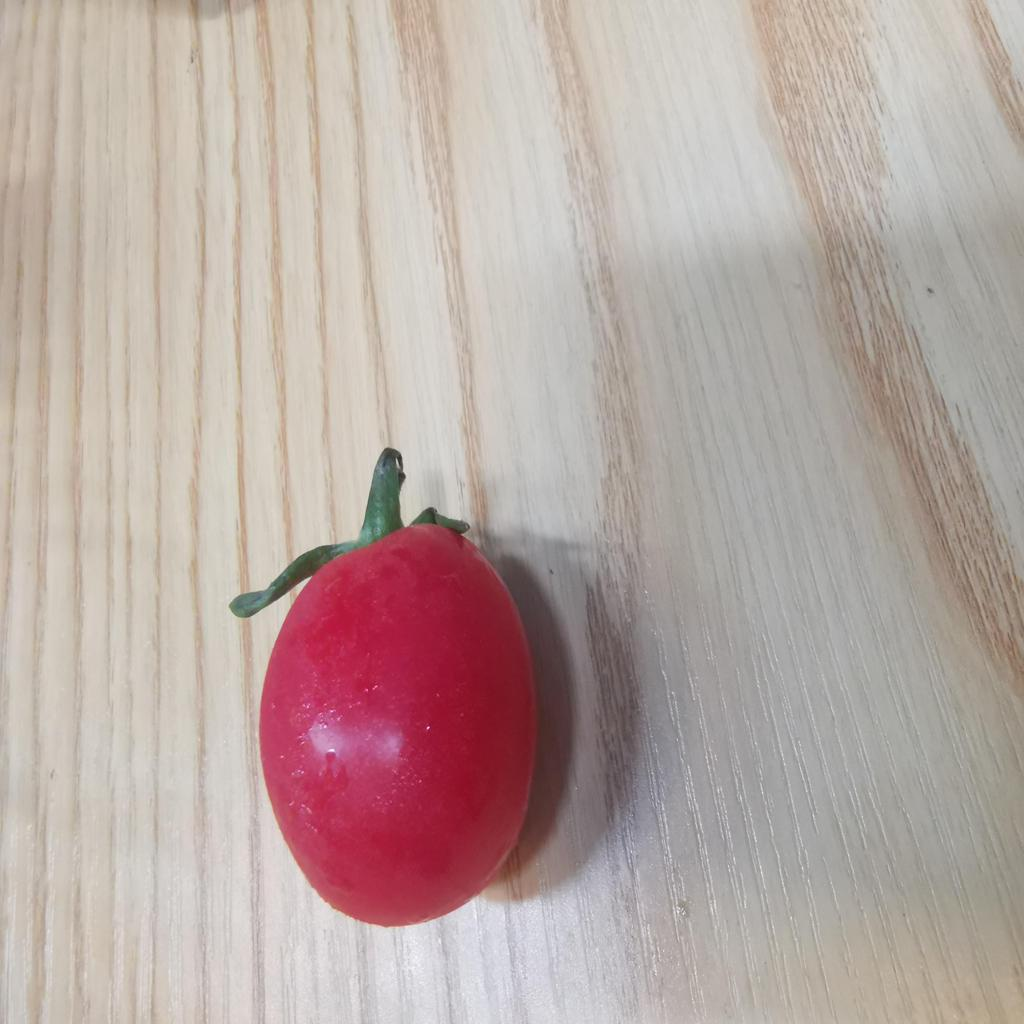tomato: (236, 491, 552, 937)
